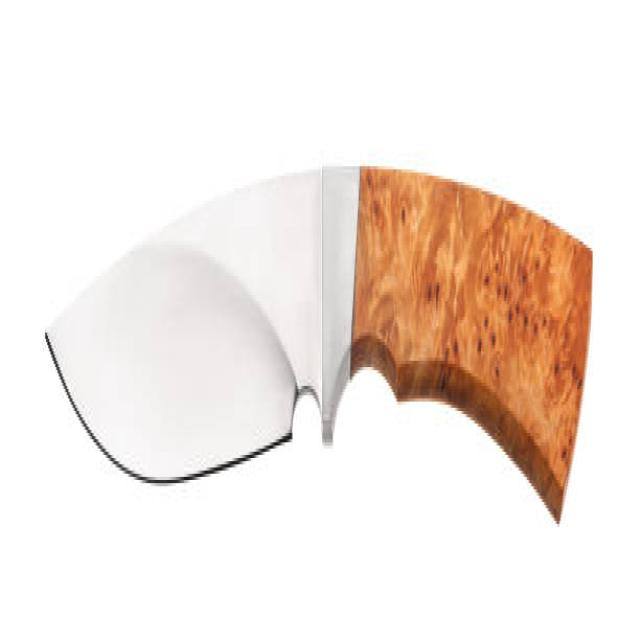knife: (43, 159, 598, 540)
